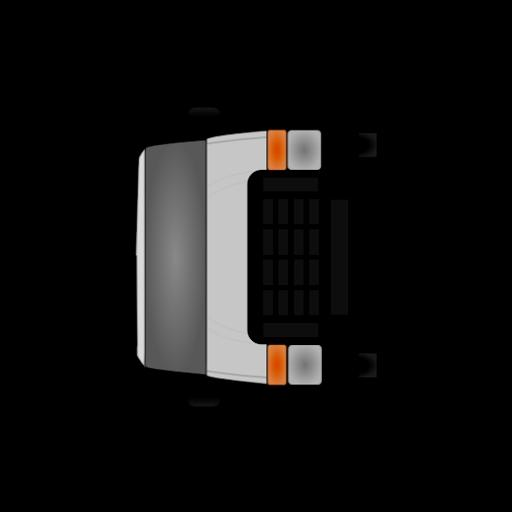van: (134, 102, 380, 410)
